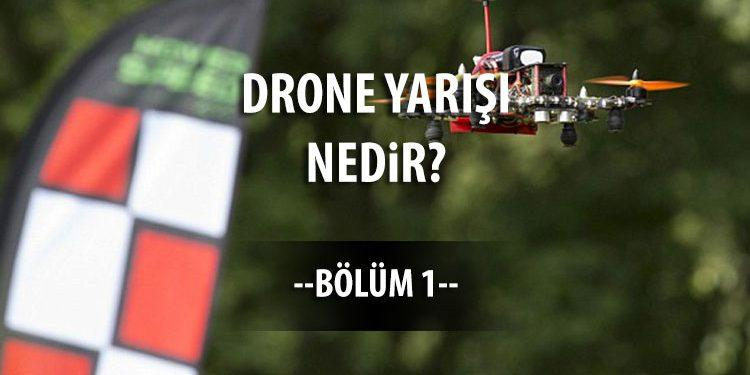drone: (348, 60, 700, 140)
